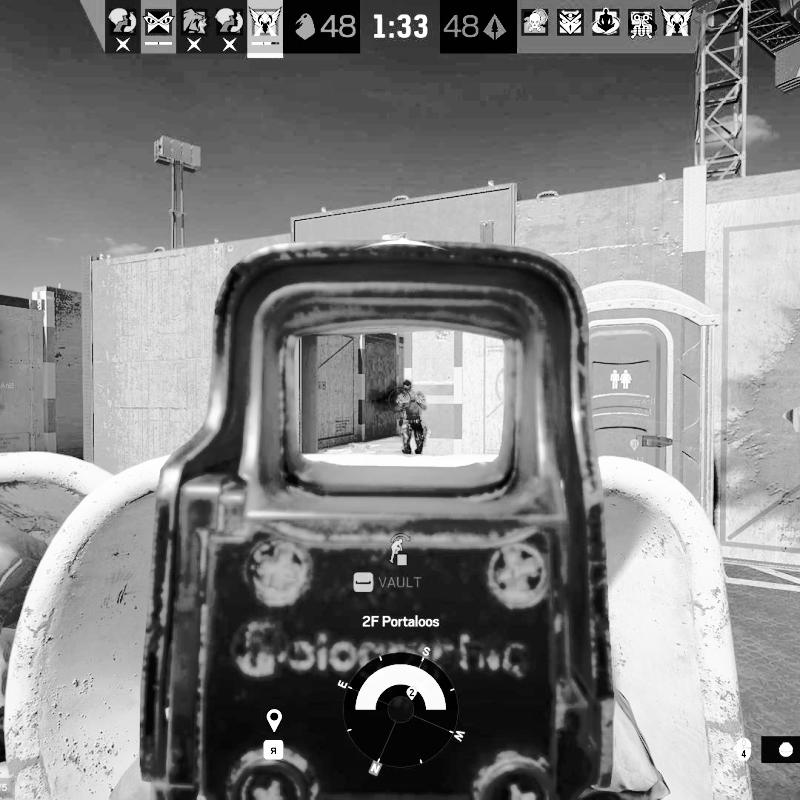Character: (395, 378, 431, 459)
Head: (402, 380, 413, 392)
